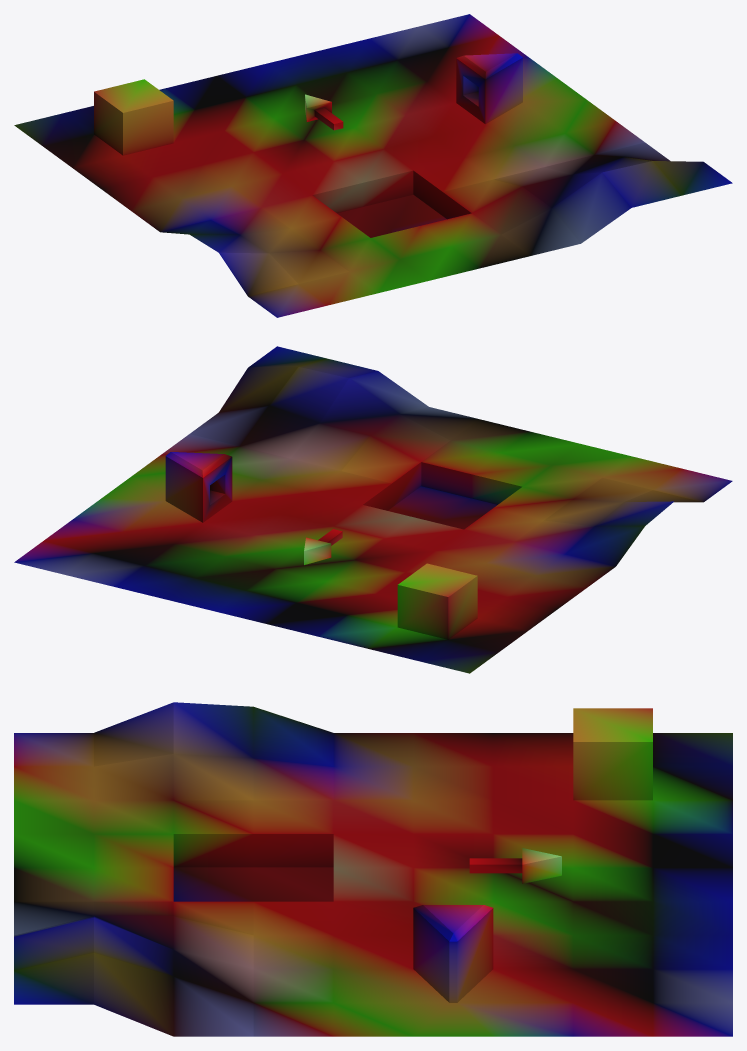
Rendered from TestScene01.gltf.
3 renders of one model, top to bottom at view 1: azimuth 30°, elevation 25°; view 2: azimuth 150°, elevation 25°; view 3: azimuth 270°, elevation 25°, orthographic. The views are drawn at different scales.
Visible parts, largest first — view 1: Plane; view 2: Plane; view 3: Plane.
Boxes of the visible parts, x1,y1,x2,y2 form: Plane: [14, 14, 732, 317]; Plane: [14, 346, 732, 673]; Plane: [14, 702, 732, 1036].
Size of the model in its own units: 36 by 5.52 by 36.
